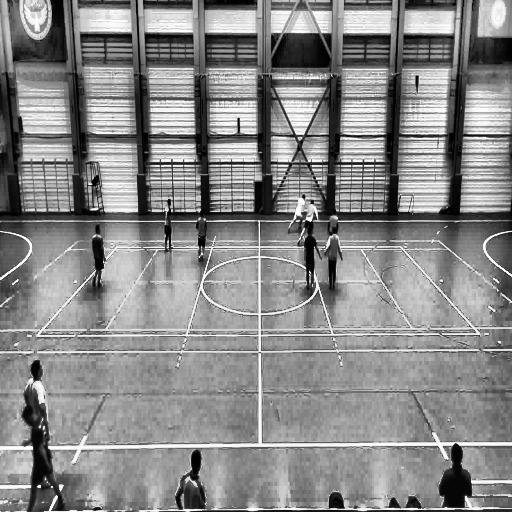player: (20, 403, 65, 512), (23, 359, 51, 491), (175, 450, 206, 512), (303, 222, 321, 292), (324, 225, 342, 291), (92, 224, 105, 290), (288, 194, 306, 236), (196, 210, 207, 264), (163, 200, 172, 251), (328, 210, 339, 236)
